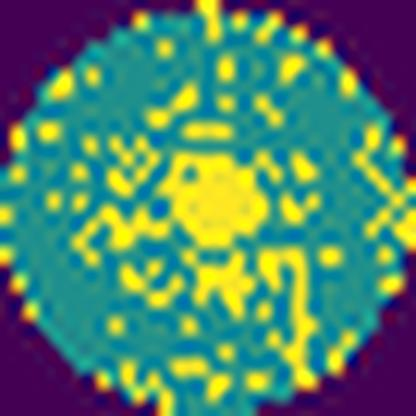Center: (159, 150, 289, 254)
